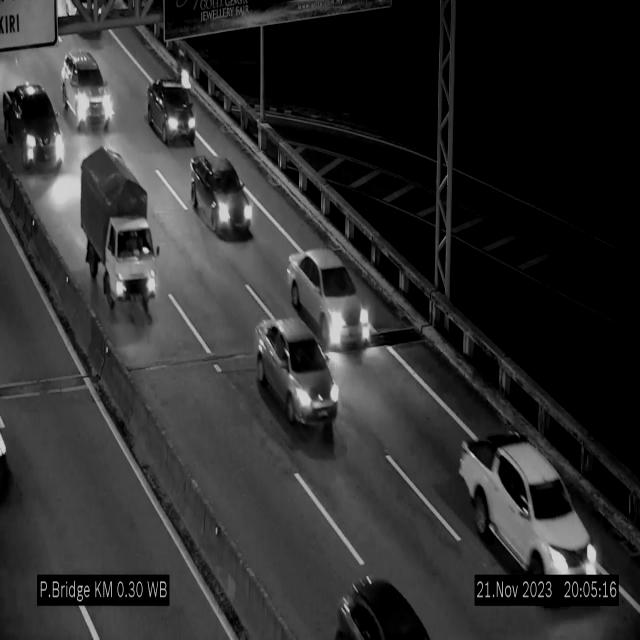Car: (458, 433, 602, 571), (256, 319, 338, 430), (287, 249, 371, 349), (0, 76, 64, 183), (190, 156, 254, 239), (61, 53, 113, 130), (147, 78, 196, 144)
Motorcycle: (177, 45, 192, 95)
Truck: (81, 146, 157, 322)
